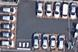parkingspot: (37, 0, 78, 20), (0, 6, 19, 49), (32, 32, 66, 52)
